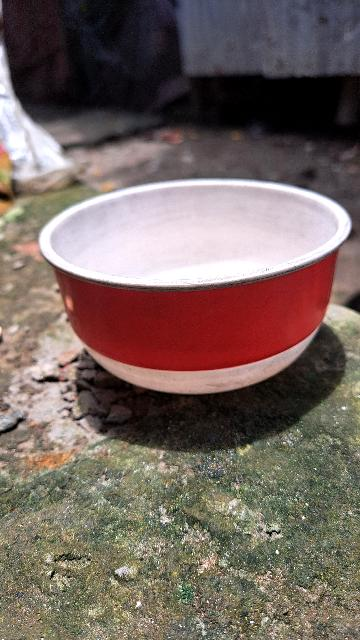hardplastic: (39, 176, 347, 397)
